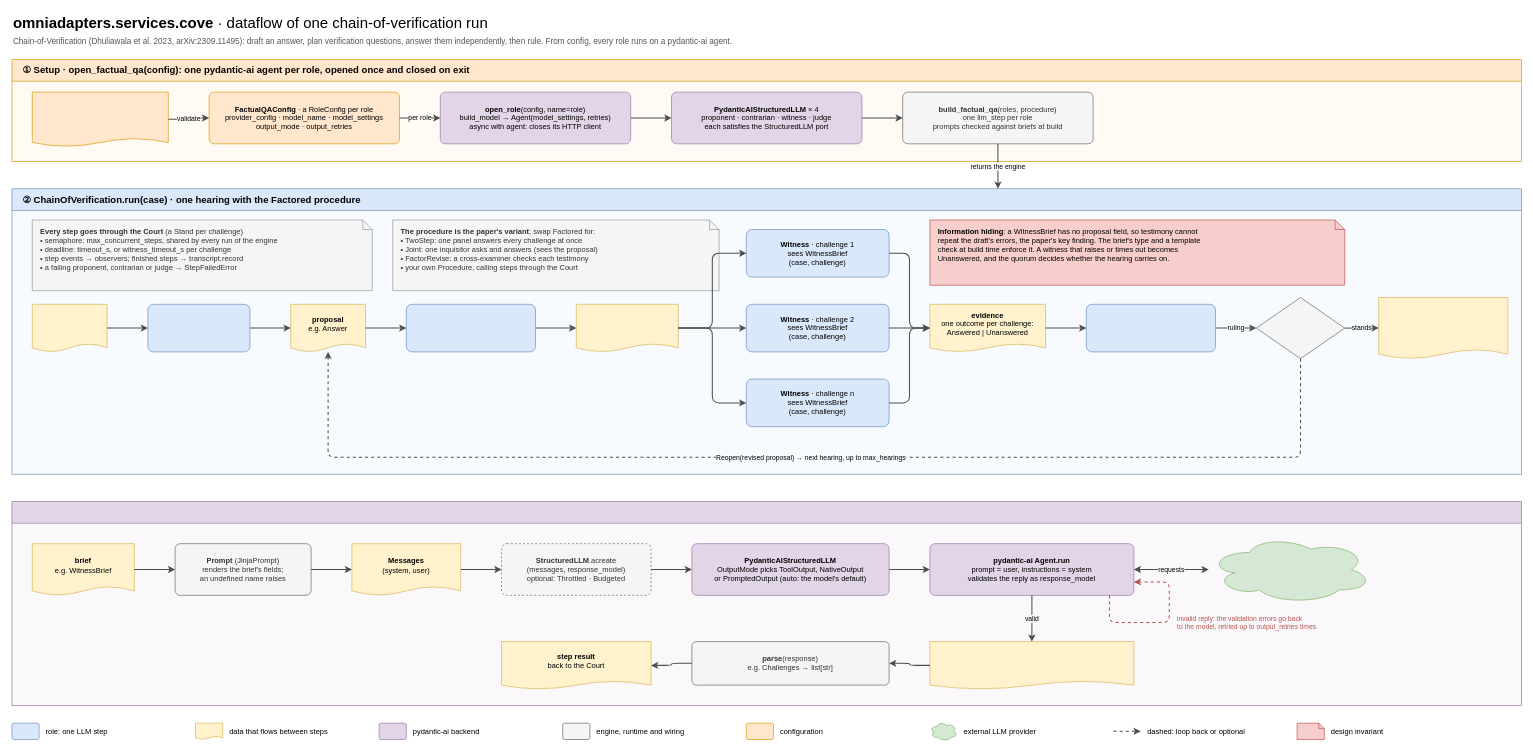
Image size: 1533x753. Some labels were removed from this diagram. The shapes that lost their labels are listed below. From the top down, each one's box as (x1, y1, x2, y2) in pixels, then its label:
(32, 91, 168, 147): config.yaml + .env roles · procedure · limits API keys from the environment
(32, 304, 107, 352): case e.g. Question
(147, 304, 250, 352): Proponent sees CaseBrief(case) drafts an answer
(406, 304, 536, 352): Contrarian sees ContrarianBrief (case, proposal)
(576, 304, 678, 352): challenges court.admit: min ≤ n ≤ max
(1086, 304, 1216, 352): Judge sees JudgeBrief(case, proposal, evidence, hearing)
(1256, 297, 1345, 359): retrial? reconsider(ruling)
(1378, 297, 1508, 359): Transcript hearings · disposition · record .ruling · .to_json()
(1208, 535, 1372, 604): LLM provider OpenAI · Anthropic · Gemini
(11, 501, 1522, 706): ③ Inside every role's step · llm_step(llm, prompt, response_model, parse)
(929, 641, 1134, 689): response_model instance e.g. Challenges, WitnessAnswer
